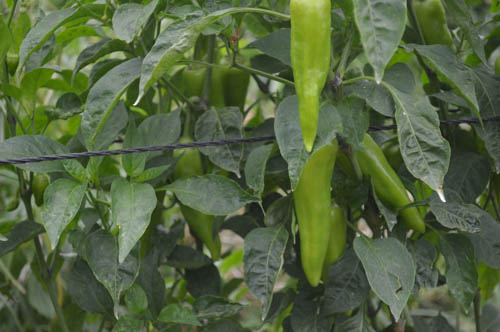ChiliPepper: (349, 135, 431, 231), (288, 141, 336, 286), (175, 145, 220, 254), (289, 2, 319, 151), (184, 67, 221, 108), (220, 68, 250, 115), (325, 207, 346, 263)
